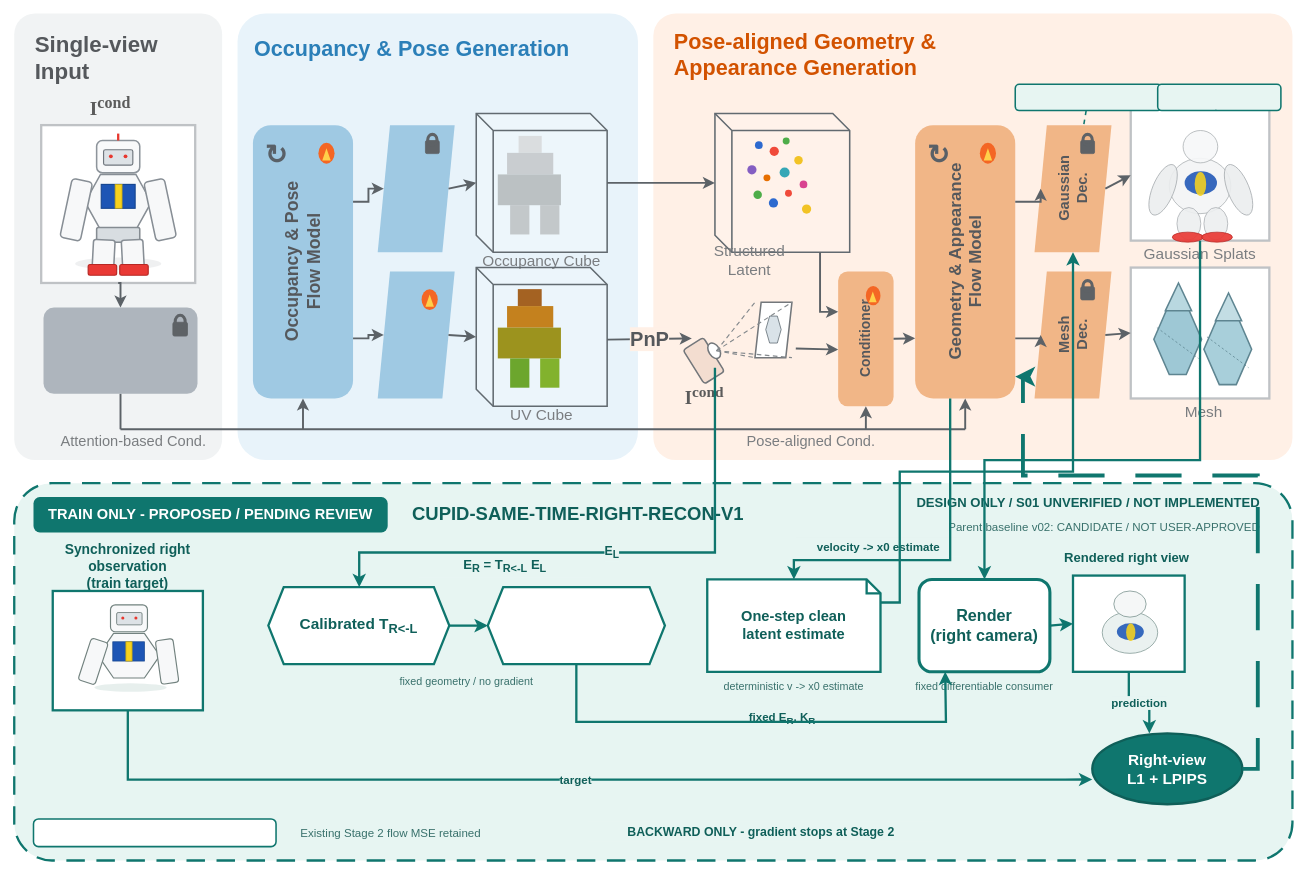
The diagram is 1307 pixels wide and 875 high, and some of its shapes have lost their labels. Each missing label, with the box of its shape:
DINOv2: (43, 307, 197, 393)
Fixed right camera E R , K R: (486, 586, 666, 665)
Frozen for V1 supervision: (1014, 83, 1162, 111)
Inference unchanged: left only: (32, 818, 276, 847)
Occupancy Dec.: (377, 125, 454, 252)
Reused 3D Gaussians: (1157, 83, 1281, 111)
UV Cube Dec.: (377, 271, 454, 398)
